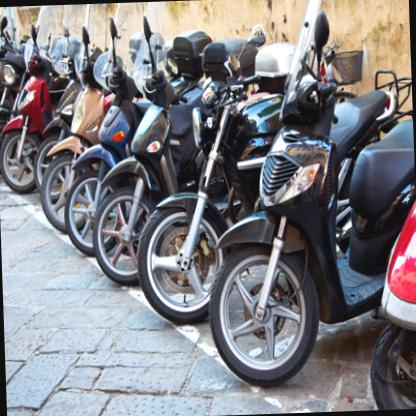motorcycle: (198, 9, 415, 396), (131, 26, 328, 325), (88, 20, 225, 288), (59, 13, 153, 262)
